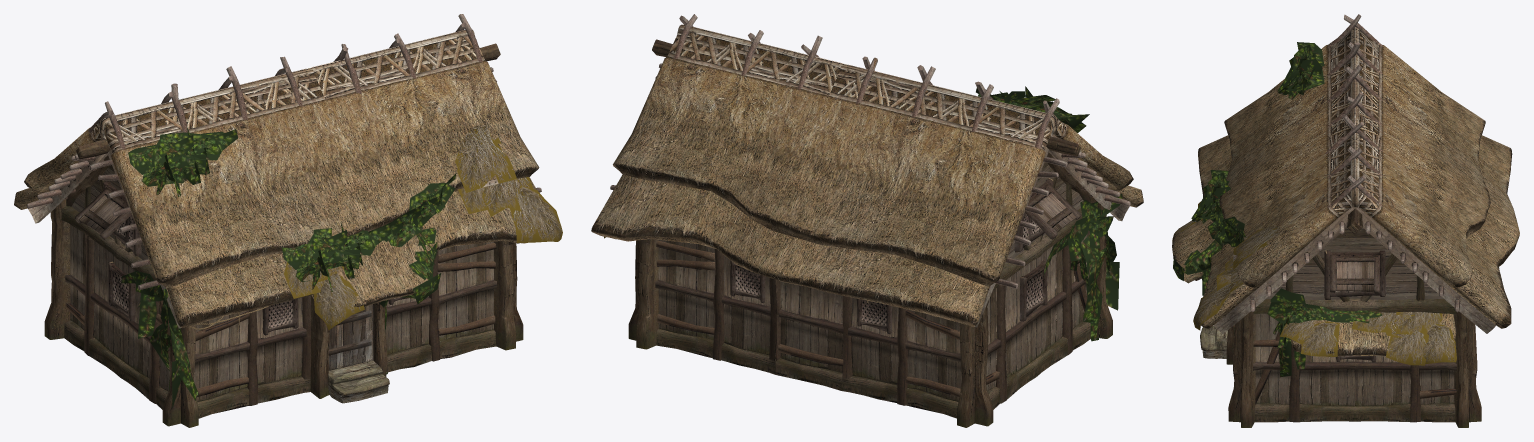
The model's file is House04.FBX.
3 renders of one model, left to right at view 1: azimuth 30°, elevation 25°; view 2: azimuth 150°, elevation 25°; view 3: azimuth 270°, elevation 25°, orthographic. The views are drawn at different scales.
Visible parts, largest first — view 1: LV_TurtleLake_Lakevillage_House02B_SM_EYE, LV_TurtleLake_Lakevillage_House02A_SM_EYE, LV_TurtleLake_Lakevillage_House02Ivy_SM_EYE; view 2: LV_TurtleLake_Lakevillage_House02B_SM_EYE, LV_TurtleLake_Lakevillage_House02A_SM_EYE, LV_TurtleLake_Lakevillage_House02Ivy_SM_EYE; view 3: LV_TurtleLake_Lakevillage_House02B_SM_EYE, LV_TurtleLake_Lakevillage_House02A_SM_EYE, LV_TurtleLake_Lakevillage_House02Ivy_SM_EYE.
Part boxes in pixels (x1,y1,x2,y2): LV_TurtleLake_Lakevillage_House02B_SM_EYE: (14,29,562,330); LV_TurtleLake_Lakevillage_House02A_SM_EYE: (26,14,541,427); LV_TurtleLake_Lakevillage_House02Ivy_SM_EYE: (121,127,456,408); LV_TurtleLake_Lakevillage_House02B_SM_EYE: (591,24,1143,327); LV_TurtleLake_Lakevillage_House02A_SM_EYE: (610,14,1130,427); LV_TurtleLake_Lakevillage_House02Ivy_SM_EYE: (976,86,1122,341); LV_TurtleLake_Lakevillage_House02B_SM_EYE: (1172,27,1519,365); LV_TurtleLake_Lakevillage_House02A_SM_EYE: (1195,14,1481,427); LV_TurtleLake_Lakevillage_House02Ivy_SM_EYE: (1173,42,1382,377).
Bounding box in the file's own units: 358 × 233 × 280.
